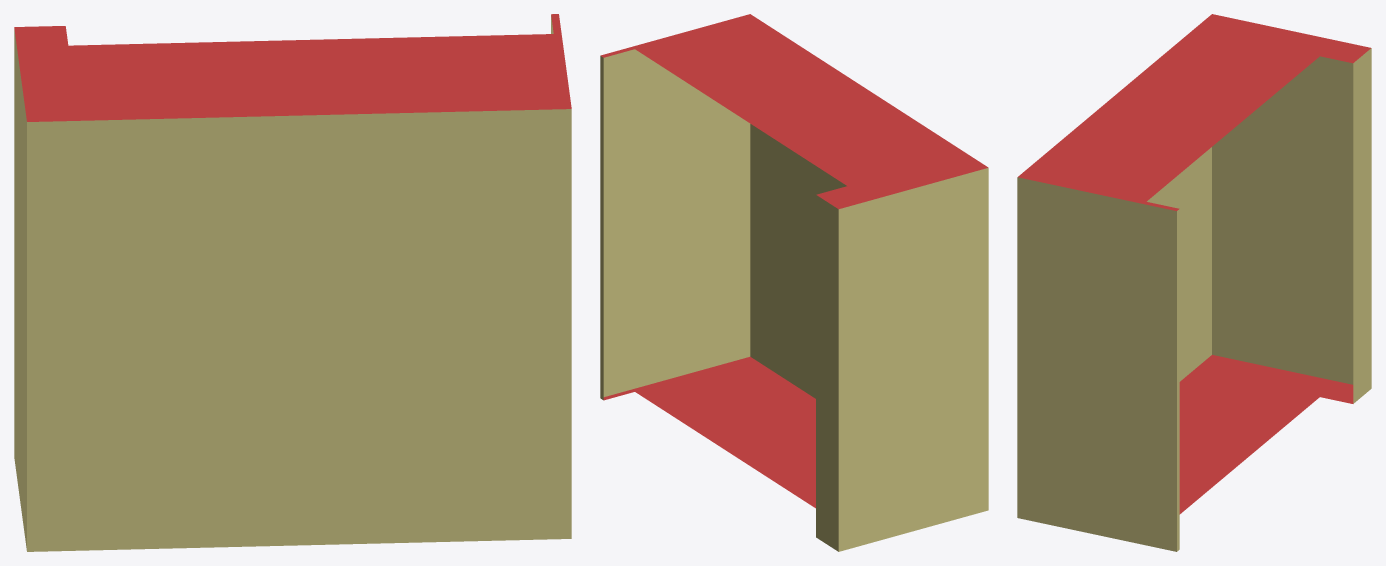
3 renders of one model, left to right at view 1: azimuth 30°, elevation 25°; view 2: azimuth 150°, elevation 25°; view 3: azimuth 270°, elevation 25°, orthographic. The views are drawn at different scales.
Visible parts, largest first — view 1: group_4, group_3; view 2: group_4, group_3, group_5; view 3: group_4, group_3, group_5.
Part boxes in pixels (box(x1,y1,x2,y2)): group_4: box(14, 15, 571, 551); group_3: box(14, 14, 571, 121); group_4: box(600, 49, 988, 551); group_3: box(600, 14, 988, 209); group_5: box(603, 356, 815, 508); group_4: box(1017, 48, 1371, 551); group_3: box(1018, 14, 1370, 210); group_5: box(1179, 355, 1353, 514).
Bounding box in the file's own units: 9.8 × 7.43 × 7.89.
